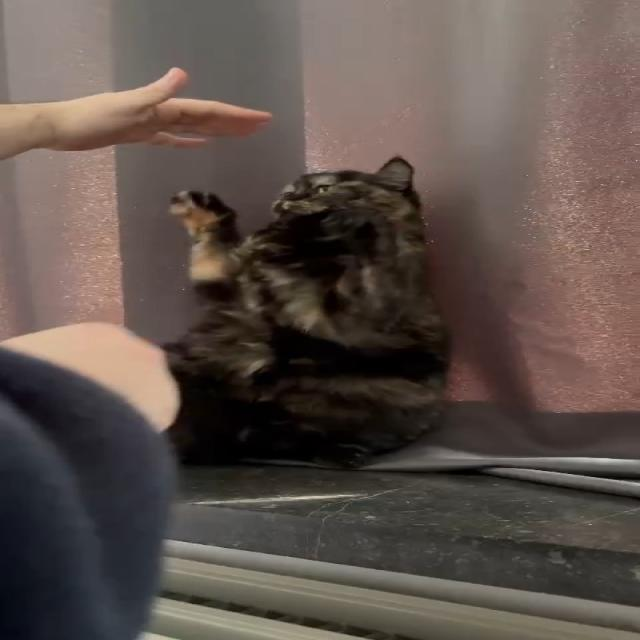authorized: (159, 154, 453, 468)
